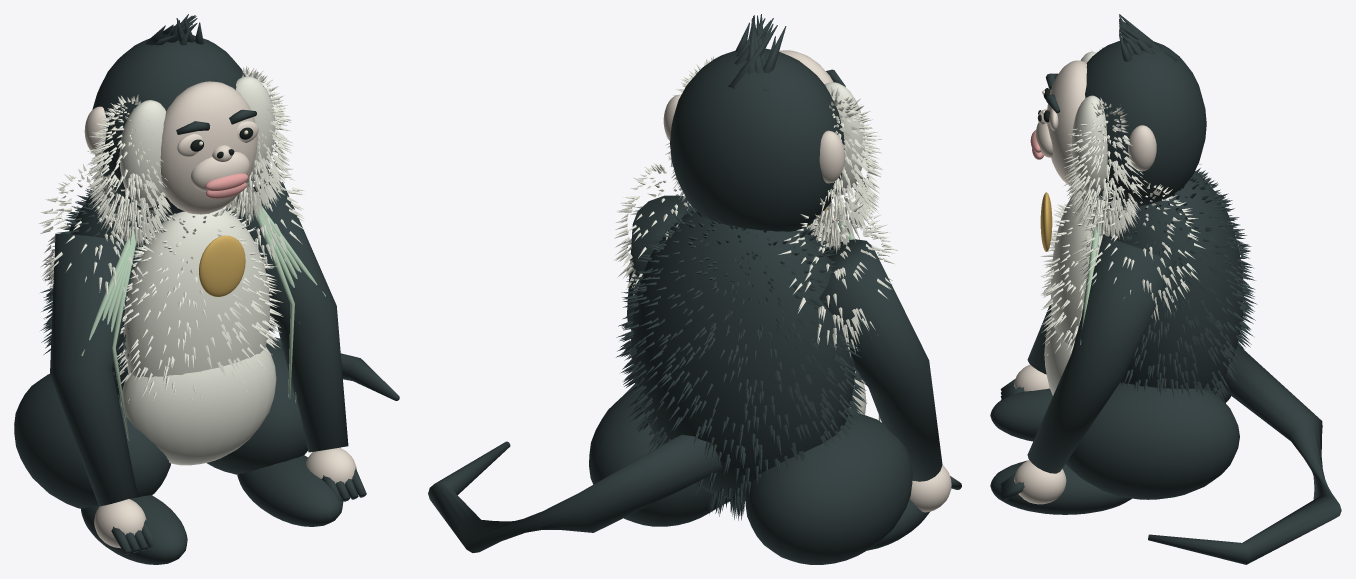
The model's file is monkey.glb.
The picture shows the model from 3 angles, left to right: view 1: azimuth 30°, elevation 25°; view 2: azimuth 150°, elevation 25°; view 3: azimuth 270°, elevation 25°; orthographic projection. The views are drawn at different scales.
Visible parts, largest first — view 1: chest, arm_-1, belly, arm_1, thigh, head, face, cheek_ruff, white_chest_fur, foot.001, thigh.001, cheek (+17 smaller); view 2: body, head, thigh, black_body_fur, arm_-1, tail, thigh.001, cheek_ruff, shoulder_fur, arm_1, shoulder_fur.001, cheek (+3 smaller); view 3: body, thigh.001, arm_1, head, tail, black_body_fur, cheek_ruff.001, chest, foot.001, face, shoulder_fur.001, cheek.001 (+9 smaller).
Boxes of the visible parts, x1=… form: chest: x1=123, y1=208, x2=270, y2=377; arm_-1: x1=50, y1=233, x2=137, y2=506; belly: x1=120, y1=346, x2=276, y2=465; arm_1: x1=237, y1=181, x2=348, y2=452; thigh: x1=14, y1=374, x2=170, y2=508; head: x1=92, y1=35, x2=245, y2=215; face: x1=160, y1=81, x2=257, y2=214; cheek_ruff: x1=85, y1=94, x2=172, y2=250; white_chest_fur: x1=117, y1=205, x2=283, y2=403; foot.001: x1=237, y1=455, x2=343, y2=526; thigh.001: x1=207, y1=343, x2=307, y2=474; cheek: x1=119, y1=100, x2=165, y2=207; body: x1=631, y1=209, x2=855, y2=501; head: x1=670, y1=48, x2=844, y2=231; thigh: x1=745, y1=413, x2=912, y2=564; black_body_fur: x1=616, y1=203, x2=866, y2=520; arm_-1: x1=819, y1=239, x2=942, y2=481; tail: x1=428, y1=434, x2=722, y2=552; thigh.001: x1=589, y1=388, x2=725, y2=526; cheek_ruff: x1=806, y1=87, x2=882, y2=253; shoulder_fur: x1=778, y1=192, x2=898, y2=356; arm_1: x1=627, y1=195, x2=691, y2=330; shoulder_fur.001: x1=614, y1=152, x2=687, y2=295; cheek: x1=824, y1=82, x2=865, y2=195; body: x1=1108, y1=171, x2=1243, y2=394; thigh.001: x1=1066, y1=382, x2=1239, y2=499; arm_1: x1=1027, y1=234, x2=1176, y2=473; head: x1=1085, y1=41, x2=1206, y2=207; tail: x1=1148, y1=344, x2=1341, y2=564; black_body_fur: x1=1096, y1=168, x2=1257, y2=402; cheek_ruff.001: x1=1063, y1=97, x2=1148, y2=239; chest: x1=1050, y1=191, x2=1109, y2=345; foot.001: x1=990, y1=460, x2=1131, y2=514; face: x1=1047, y1=60, x2=1086, y2=185; shoulder_fur.001: x1=1072, y1=183, x2=1205, y2=321; cheek.001: x1=1071, y1=95, x2=1107, y2=196.
Size of the model in its own units: 1 by 1.21 by 0.8442.
